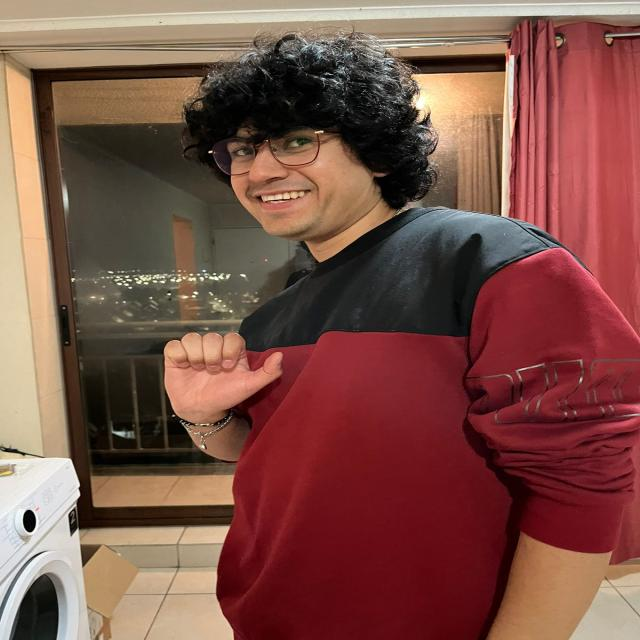E: (153, 328, 291, 419)
